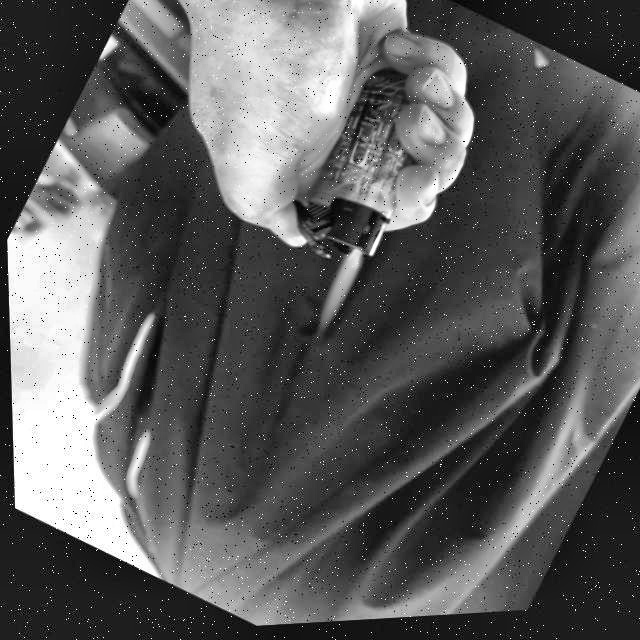Fire: (305, 251, 367, 336)
